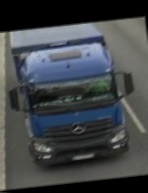truck: (2, 20, 137, 173)
